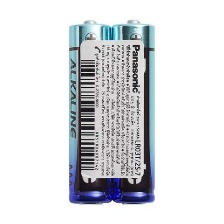battery: (65, 17, 113, 206), (109, 16, 156, 206)
